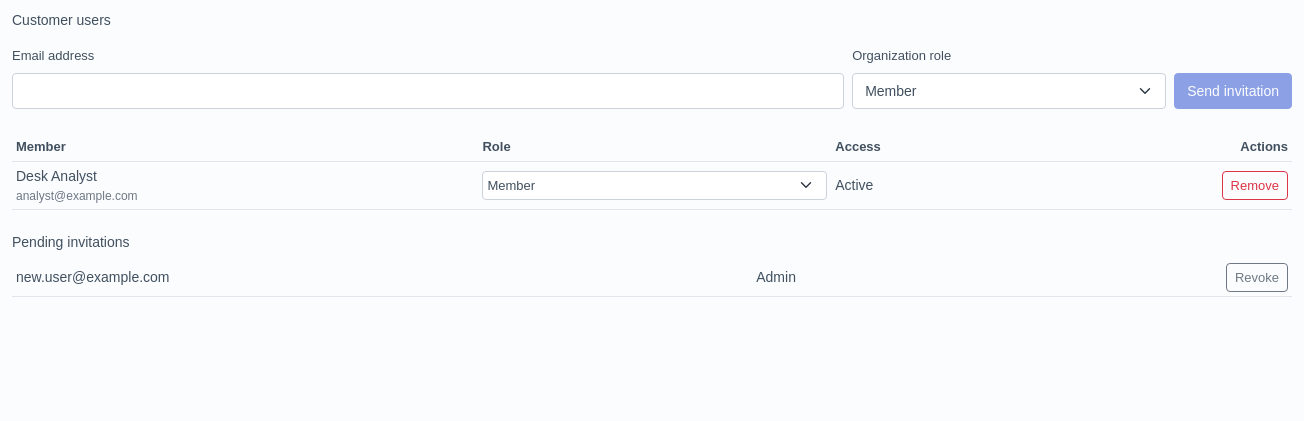
Test: CustomerUsersPanel › creates and displays a one-time fallback invitation link
The image size is (1304, 421).
Type "Invitee@Example.com" into the field labelled "Email address" at (428, 91), box [12,73,844,109]
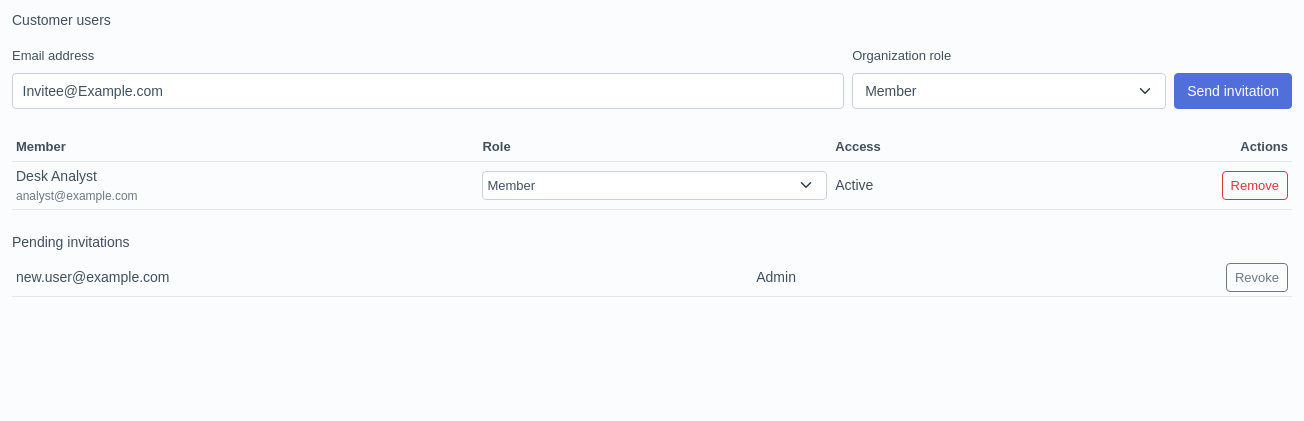
Click the button "Send invitation" at (1233, 91), box [1174,73,1292,109]
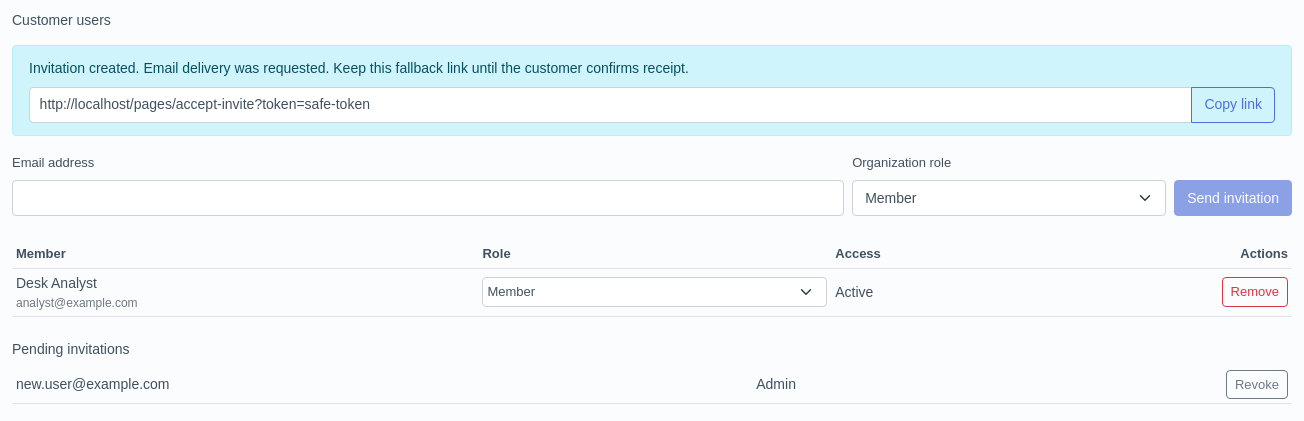
expect the field named "Invitation fallback link" holds "http://localhost/pages/accept-invite?token=safe-token": met, box [29,87,1192,123]
